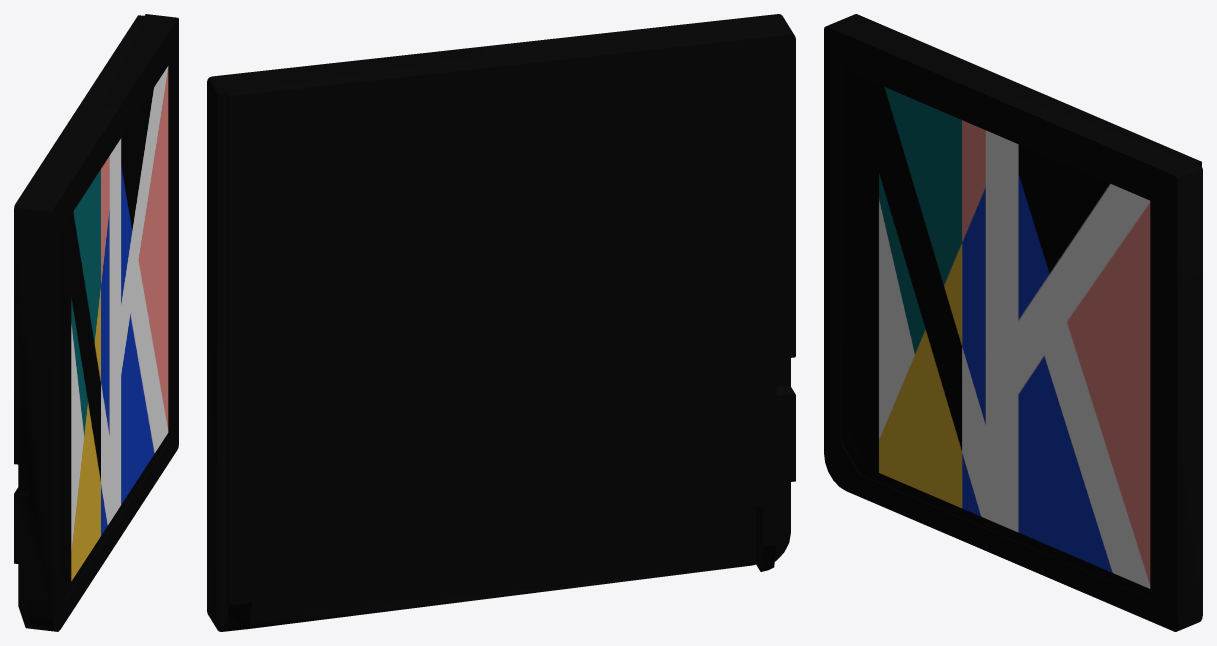
The model's file is dscart.obj.
3 renders of one model, left to right at view 1: azimuth 30°, elevation 25°; view 2: azimuth 150°, elevation 25°; view 3: azimuth 270°, elevation 25°, orthographic. The views are drawn at different scales.
Parts seen in each view (by area): view 1: Plane, Cube; view 2: Cube; view 3: Plane, Cube.
Boxes of the visible parts, x1=… form: Plane: x1=60, y1=66, x2=168, y2=585; Cube: x1=14, y1=14, x2=178, y2=631; Cube: x1=207, y1=14, x2=795, y2=631; Plane: x1=849, y1=72, x2=1150, y2=588; Cube: x1=824, y1=14, x2=1202, y2=631.
Size of the model in its own units: 1.54 by 2 by 1.51.
